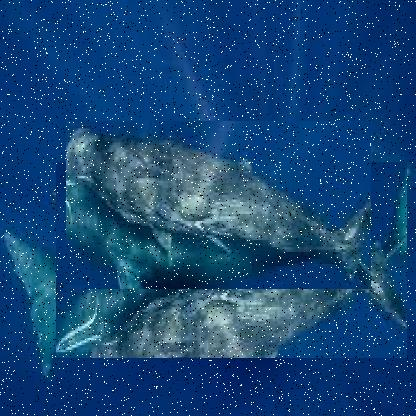sperm_whale: (55, 162, 407, 359), (65, 121, 371, 290)
